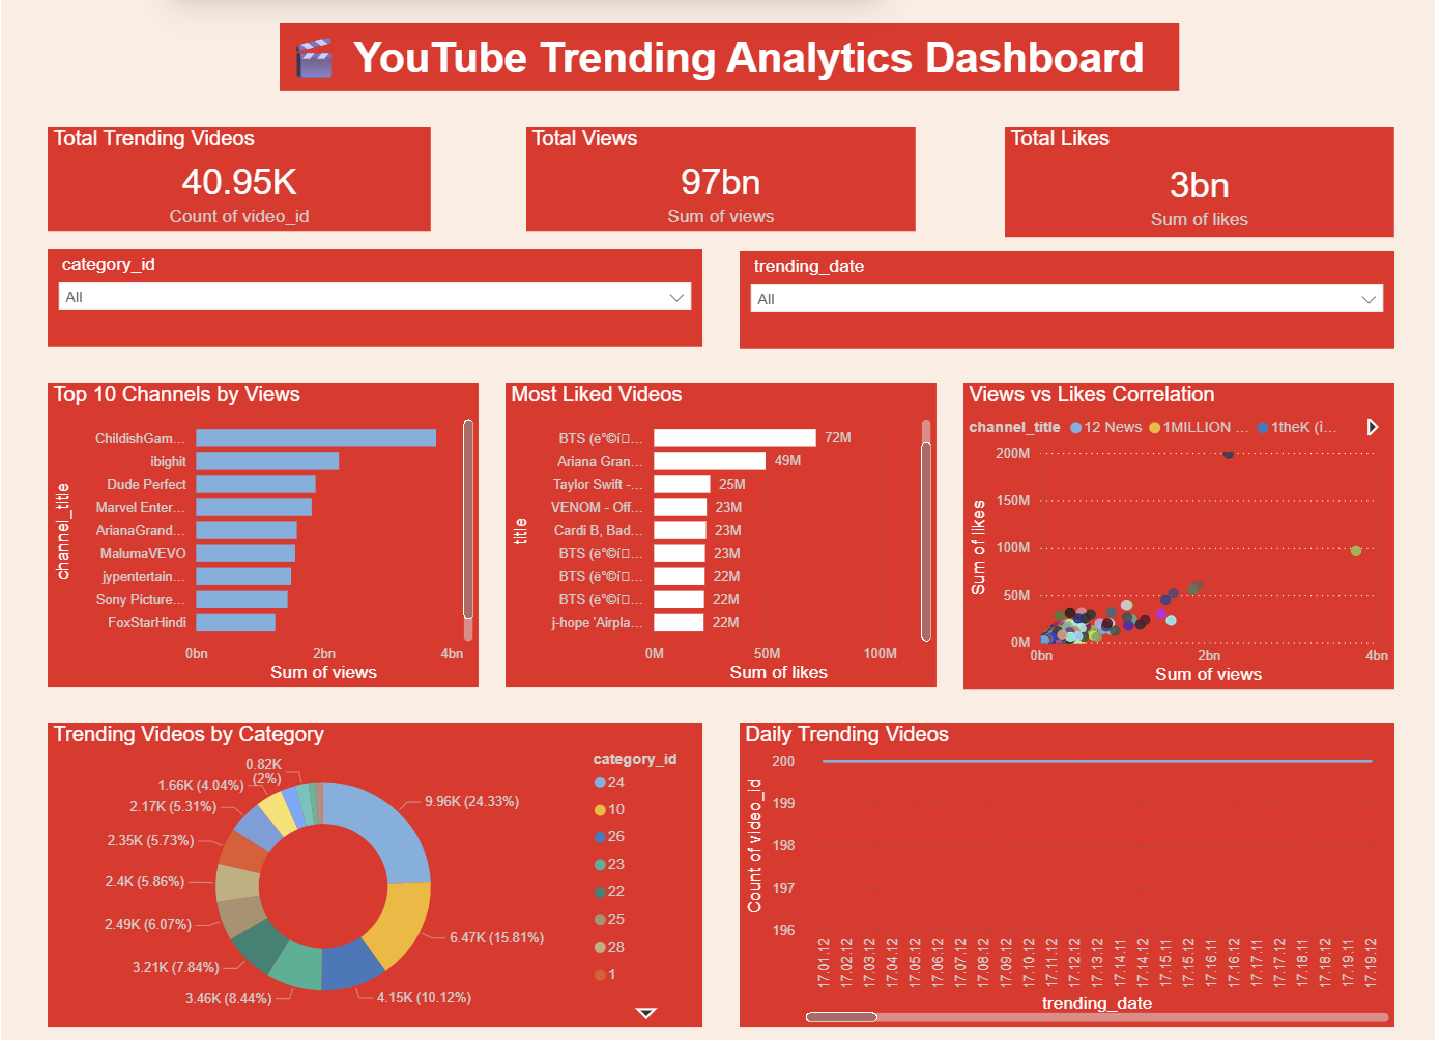

The dashboard page shown, as its layout file describes it:
{"tool":"powerbi","page":{"name":"Page 1","canvas":[1280,1000],"ordinal":0},"visuals":[{"type":"clusteredBarChart","title":"Top 10 Channels by Views","fields":{"Category":["youtube_analytics youtube_videos.channel_title"],"Y":["Sum(youtube_analytics youtube_videos.views)"]},"box":[42.4,390.4,383.1,279.9],"z":0},{"type":"clusteredBarChart","title":"Most Liked Videos","fields":{"Category":["youtube_analytics youtube_videos.title"],"Y":["Sum(youtube_analytics youtube_videos.likes)"]},"box":[449.4,390.4,383.1,279.9],"z":1000},{"type":"scatterChart","title":"Views vs Likes Correlation","fields":{"X":["Sum(youtube_analytics youtube_videos.views)"],"Y":["Sum(youtube_analytics youtube_videos.likes)"],"Series":["youtube_analytics youtube_videos.channel_title"]},"box":[856.4,390.4,383.1,281.8],"z":2000},{"type":"donutChart","title":"Trending Videos by Category","fields":{"Category":["youtube_analytics youtube_videos.category_id"],"Y":["CountNonNull(youtube_analytics youtube_videos.video_id)"]},"box":[42.4,703.5,582,279.9],"z":3000},{"type":"lineChart","title":"Daily Trending Videos","fields":{"Category":["youtube_analytics youtube_videos.trending_date"],"Y":["CountNonNull(youtube_analytics youtube_videos.video_id)"]},"box":[657.5,703.5,582,279.9],"z":4000},{"type":"card","title":"Total Trending Videos","fields":{"Values":["CountNonNull(youtube_analytics youtube_videos.video_id)"]},"box":[42.4,154.7,340.7,95.8],"z":5000},{"type":"card","title":"Total Views","fields":{"Values":["Sum(youtube_analytics youtube_videos.views)"]},"box":[467.8,154.7,346.2,95.8],"z":6000},{"type":"card","title":"Total Likes","fields":{"Values":["Sum(youtube_analytics youtube_videos.likes)"]},"box":[893.2,154.7,346.2,101.3],"z":7000},{"type":"slicer","fields":{"Values":["youtube_analytics youtube_videos.category_id"]},"box":[42.4,267,582,90.2],"z":8000},{"type":"slicer","fields":{"Values":["youtube_analytics youtube_videos.trending_date"]},"box":[657.5,268.9,582,90.2],"z":9000},{"type":"textbox","box":[248.6,58.9,799.3,62.6],"z":10000}]}

Visuals, with their boxes in screenshot pixels (x1, y1, x2, y2):
"Top 10 Channels by Views" clusteredBarChart: [50,378,472,686]
"Most Liked Videos" clusteredBarChart: [499,378,920,686]
"Views vs Likes Correlation" scatterChart: [947,378,1369,688]
"Trending Videos by Category" donutChart: [50,722,691,1031]
"Daily Trending Videos" lineChart: [728,722,1369,1031]
"Total Trending Videos" card: [50,118,426,224]
"Total Views" card: [519,118,900,224]
"Total Likes" card: [987,118,1369,230]
slicer - youtube_analytics youtube_videos.category_id: [50,242,691,341]
slicer - youtube_analytics youtube_videos.trending_date: [728,244,1369,343]
textbox: [278,13,1158,81]
